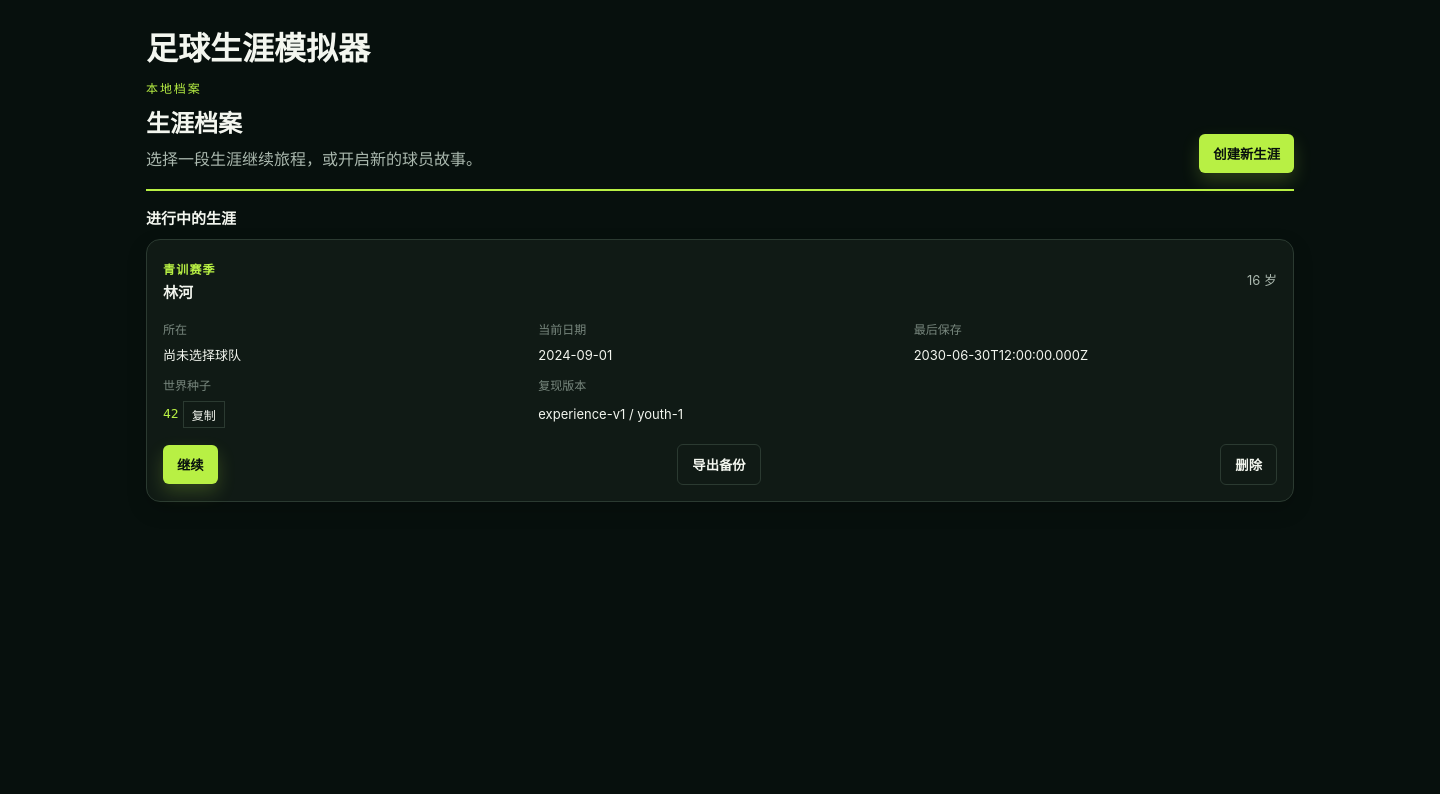
Test case: App › restores an unacknowledged event feedback before opening the dashboard
The width and height of the screenshot is (1440, 794).
Click the button with aria-label "继续林河的生涯" at (190, 464), box x1=163 y1=444 x2=218 y2=484
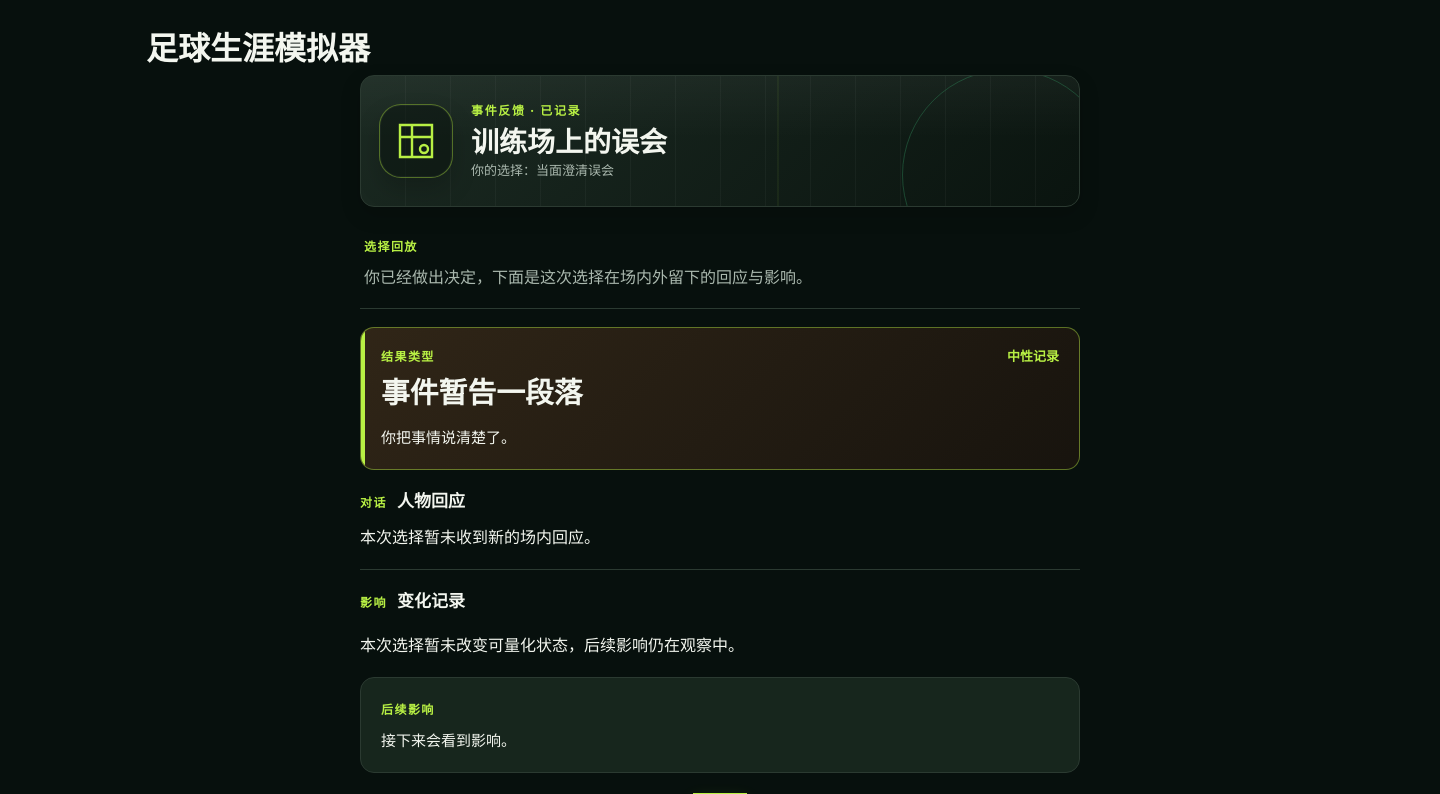
Expected: the text "你把事情说清楚了。" is shown, x1=381 y1=430 x2=516 y2=446
